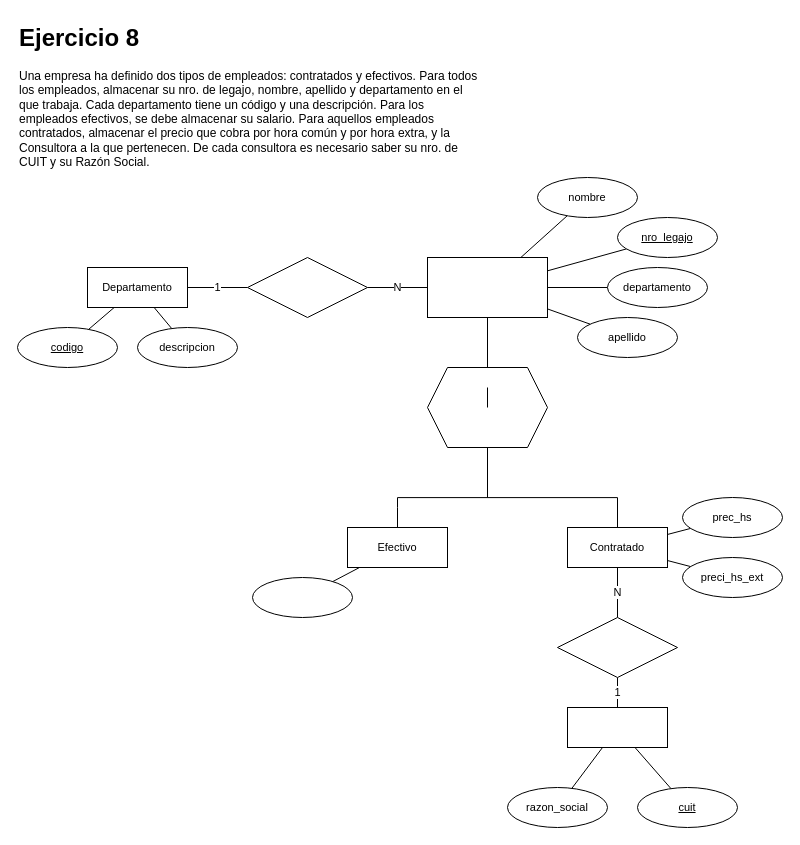
Some shapes in this 800 by 845 pixel diagram are drawn without their labels. Here are the shapes that lost their labels. From the top down, the box of each, then its label:
(246, 256, 368, 318): Relationship
(426, 256, 548, 318): Empleado
(426, 366, 548, 448): Tipo
(252, 576, 352, 618): salario
(556, 616, 678, 678): pertenece a
(566, 706, 668, 748): Consultora
